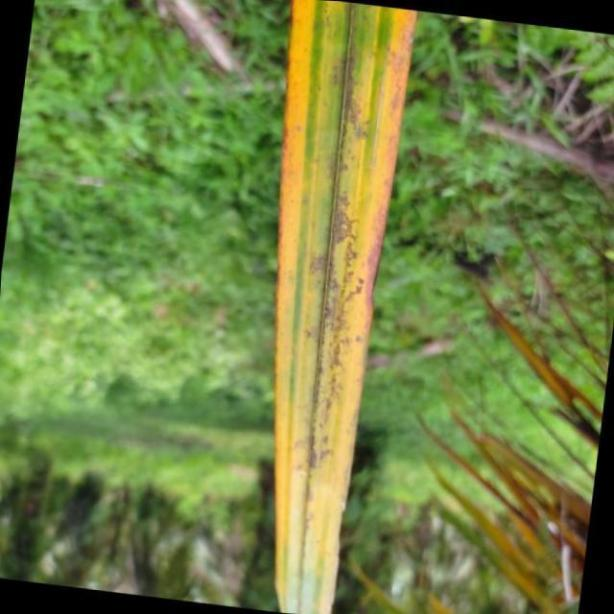Megnesium: (272, 0, 419, 614)
